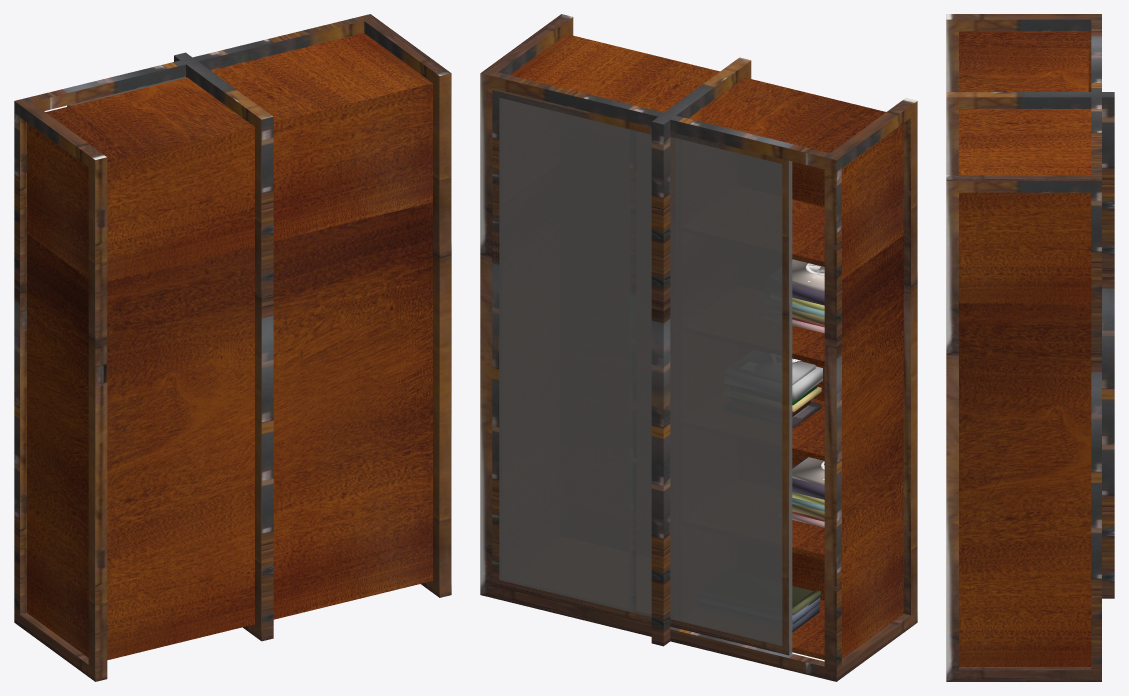
The picture shows the model from 3 angles, left to right: view 1: azimuth 30°, elevation 25°; view 2: azimuth 150°, elevation 25°; view 3: azimuth 270°, elevation 25°; orthographic projection. The views are drawn at different scales.
Visible parts, largest first — view 1: mesh1_mesh1-geometry, mesh2_mesh2-geometry; view 2: mesh5_mesh5-geometry, mesh4_mesh4-geometry, mesh1_mesh1-geometry, mesh2_mesh2-geometry, mesh58_mesh58-geometry, mesh25_mesh25-geometry; view 3: mesh1_mesh1-geometry, mesh2_mesh2-geometry.
Part boxes in pixels (x1,y1,x2,y2): mesh1_mesh1-geometry: (27, 33, 432, 660); mesh2_mesh2-geometry: (14, 14, 451, 681); mesh5_mesh5-geometry: (492, 88, 651, 624); mesh4_mesh4-geometry: (630, 130, 792, 655); mesh1_mesh1-geometry: (510, 34, 903, 659); mesh2_mesh2-geometry: (480, 14, 917, 681); mesh58_mesh58-geometry: (792, 259, 824, 291); mesh25_mesh25-geometry: (792, 457, 824, 485); mesh1_mesh1-geometry: (959, 31, 1091, 666); mesh2_mesh2-geometry: (946, 14, 1114, 681).
Bounding box in the file's own units: 0.5641 × 0.7898 × 0.2407.
